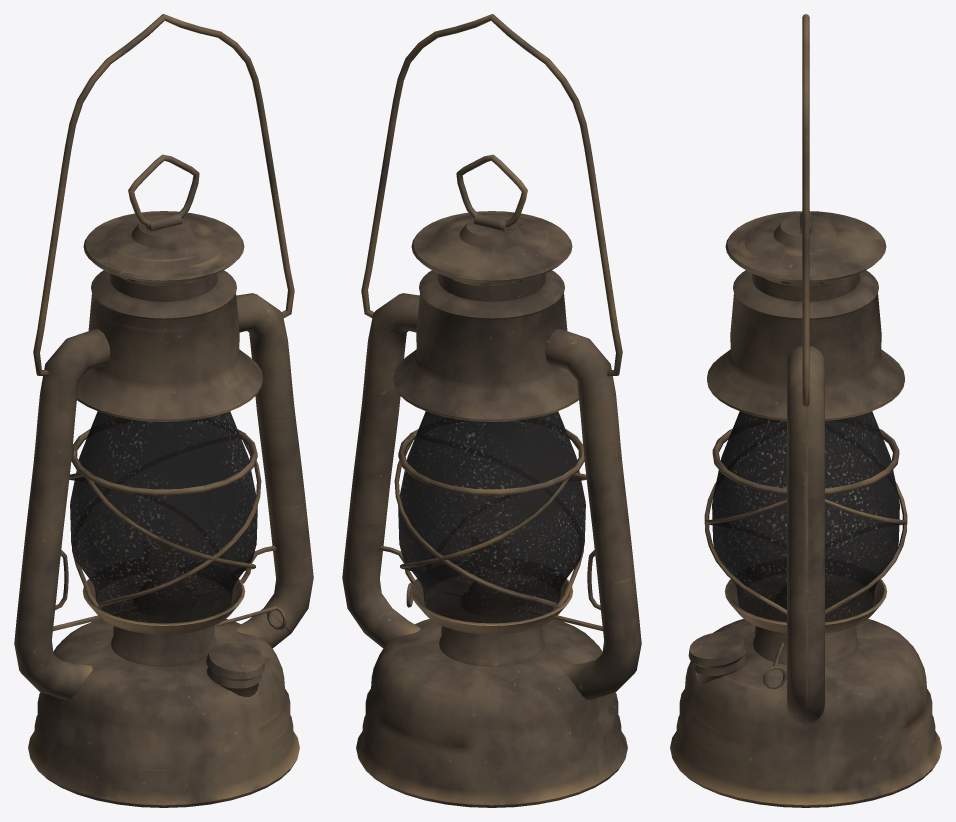
The picture shows the model from 3 angles, left to right: view 1: azimuth 30°, elevation 25°; view 2: azimuth 150°, elevation 25°; view 3: azimuth 270°, elevation 25°; orthographic projection.
Visible parts, largest first — view 1: SM_HurricaneLantern_Tank, SM_HurricaneLantern_Globe, SM_HurricaneLantern_Hood, SM_HurricaneLantern_AirTube_L, SM_HurricaneLantern_AirTube_R, SM_HurricaneLantern_Cap, SM_HurricaneLantern_Burner, SM_HurricaneLantern_Bail, SM_HurricaneLantern, SM_HurricaneLantern_FillerCap, SM_HurricaneLantern_GuardRing, SM_HurricaneLantern_Chimney (+4 smaller); view 2: SM_HurricaneLantern_Tank, SM_HurricaneLantern_Globe, SM_HurricaneLantern_Hood, SM_HurricaneLantern_AirTube_L, SM_HurricaneLantern_AirTube_R, SM_HurricaneLantern_Cap, SM_HurricaneLantern_Burner, SM_HurricaneLantern_Bail, SM_HurricaneLantern, SM_HurricaneLantern_GuardRing, SM_HurricaneLantern_Chimney, SM_HurricaneLantern_WickTube (+3 smaller); view 3: SM_HurricaneLantern_Tank, SM_HurricaneLantern_Globe, SM_HurricaneLantern_Hood, SM_HurricaneLantern_AirTube_R, SM_HurricaneLantern_Cap, SM_HurricaneLantern_Burner, SM_HurricaneLantern_Bail, SM_HurricaneLantern, SM_HurricaneLantern_FillerCap, SM_HurricaneLantern_Chimney, SM_HurricaneLantern_GuardRing.
Part boxes in pixels (bbox=[...]): SM_HurricaneLantern_Tank: bbox=[28, 619, 299, 807]; SM_HurricaneLantern_Globe: bbox=[70, 411, 257, 623]; SM_HurricaneLantern_Hood: bbox=[77, 270, 262, 421]; SM_HurricaneLantern_AirTube_L: bbox=[14, 328, 110, 700]; SM_HurricaneLantern_AirTube_R: bbox=[235, 293, 313, 648]; SM_HurricaneLantern_Cap: bbox=[83, 211, 244, 282]; SM_HurricaneLantern_Burner: bbox=[82, 573, 245, 666]; SM_HurricaneLantern_Bail: bbox=[33, 14, 294, 375]; SM_HurricaneLantern: bbox=[69, 277, 261, 609]; SM_HurricaneLantern_FillerCap: bbox=[206, 643, 264, 696]; SM_HurricaneLantern_GuardRing: bbox=[71, 429, 257, 495]; SM_HurricaneLantern_Chimney: bbox=[110, 273, 217, 301]; SM_HurricaneLantern_Tank: bbox=[356, 619, 627, 807]; SM_HurricaneLantern_Globe: bbox=[398, 411, 585, 623]; SM_HurricaneLantern_Hood: bbox=[393, 270, 578, 421]; SM_HurricaneLantern_AirTube_L: bbox=[545, 328, 641, 700]; SM_HurricaneLantern_AirTube_R: bbox=[342, 293, 420, 648]; SM_HurricaneLantern_Cap: bbox=[411, 211, 572, 282]; SM_HurricaneLantern_Burner: bbox=[410, 573, 573, 666]; SM_HurricaneLantern_Bail: bbox=[361, 14, 622, 375]; SM_HurricaneLantern: bbox=[394, 277, 586, 609]; SM_HurricaneLantern_GuardRing: bbox=[398, 429, 584, 495]; SM_HurricaneLantern_Chimney: bbox=[438, 273, 545, 301]; SM_HurricaneLantern_WickTube: bbox=[461, 566, 522, 615]; SM_HurricaneLantern_Tank: bbox=[670, 619, 941, 807]; SM_HurricaneLantern_Globe: bbox=[712, 411, 899, 622]; SM_HurricaneLantern_Hood: bbox=[707, 270, 904, 420]; SM_HurricaneLantern_AirTube_R: bbox=[787, 346, 824, 723]; SM_HurricaneLantern_Cap: bbox=[725, 211, 886, 282]; SM_HurricaneLantern_Burner: bbox=[724, 573, 887, 664]; SM_HurricaneLantern_Bail: bbox=[802, 14, 809, 406]; SM_HurricaneLantern: bbox=[704, 281, 907, 614]; SM_HurricaneLantern_FillerCap: bbox=[688, 632, 747, 683]; SM_HurricaneLantern_Chimney: bbox=[752, 273, 859, 301]; SM_HurricaneLantern_GuardRing: bbox=[712, 429, 899, 494].
Size of the model in its own units: 0.1257 by 0.301 by 0.1004.
Materials: 3 (3 with a texture image).
